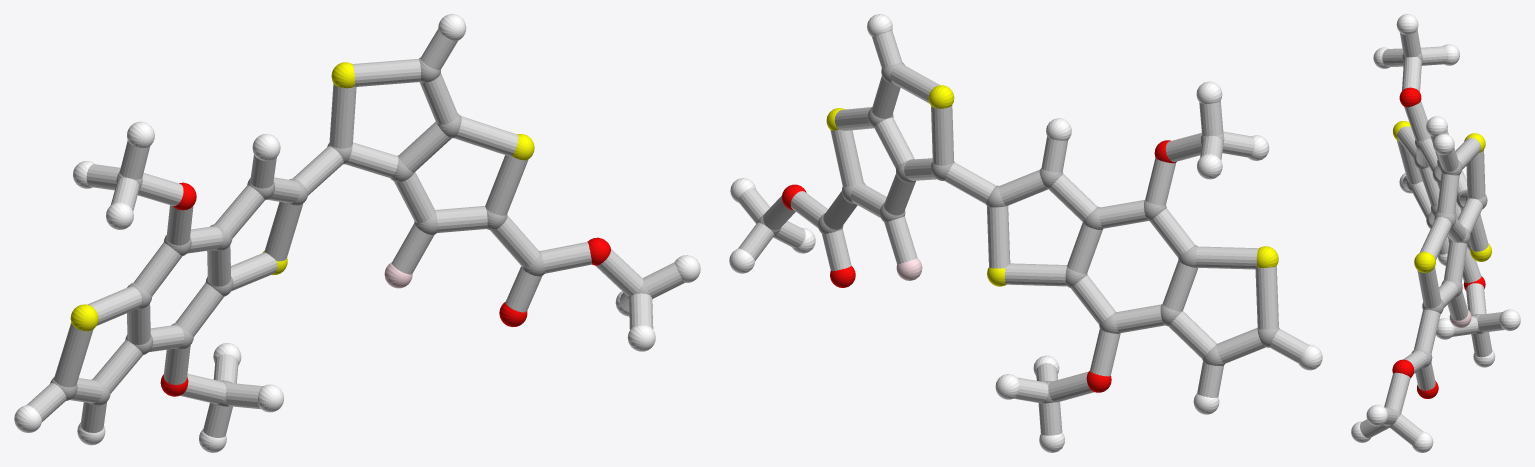
The model's file is color.glb.
The picture shows the model from 3 angles, left to right: view 1: azimuth 30°, elevation 25°; view 2: azimuth 150°, elevation 25°; view 3: azimuth 270°, elevation 25°; orthographic projection. The views are drawn at different scales.
Parts seen in each view (by area): view 1: grp15205, grp8689, grp1, grp7241, grp13395; view 2: grp15205, grp8689, grp1, grp7241, grp13395; view 3: grp15205, grp8689, grp1, grp13395, grp7241, grp14843.
Part boxes in pixels (bbox=[...]): grp15205: bbox=[26, 29, 684, 437]; grp8689: bbox=[14, 14, 700, 452]; grp1: bbox=[50, 57, 649, 406]; grp7241: bbox=[70, 62, 534, 331]; grp13395: bbox=[160, 182, 610, 396]; grp15205: bbox=[738, 30, 1308, 435]; grp8689: bbox=[729, 14, 1322, 452]; grp1: bbox=[757, 62, 1279, 403]; grp7241: bbox=[826, 85, 1278, 286]; grp13395: bbox=[782, 140, 1176, 392]; grp15205: bbox=[1360, 29, 1504, 444]; grp8689: bbox=[1351, 14, 1520, 452]; grp1: bbox=[1385, 52, 1487, 427]; grp13395: bbox=[1392, 87, 1485, 398]; grp7241: bbox=[1393, 121, 1491, 272]; grp14843: bbox=[1449, 310, 1471, 327].
Size of the model in its own units: 16.3 by 9.5 by 4.67.
